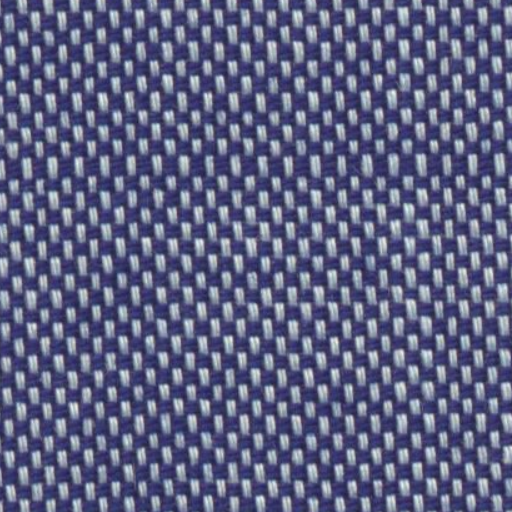TuoSha: (9, 126, 494, 194)
